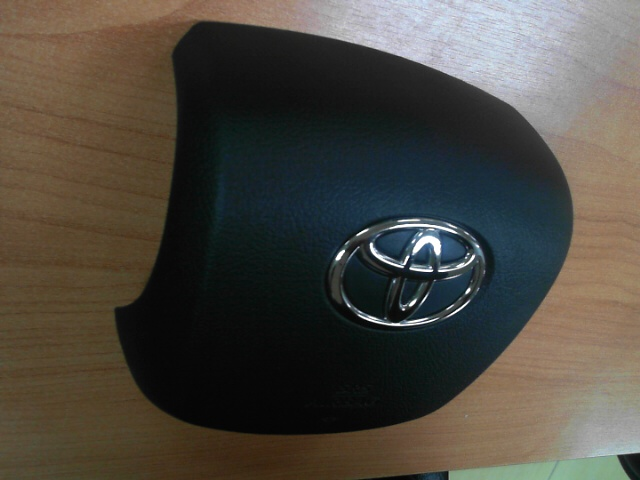AirbagV2: (111, 19, 576, 441)
